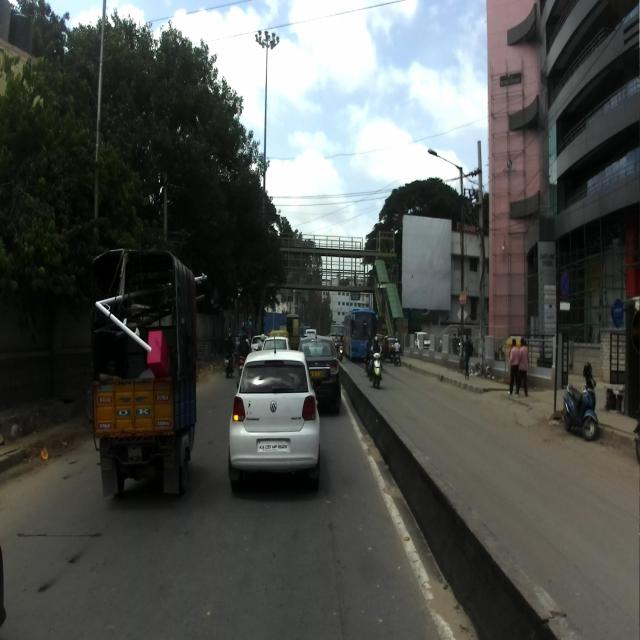autorickshaw: (89, 242, 208, 498)
car: (228, 336, 323, 494)
scooter: (560, 361, 598, 440)
